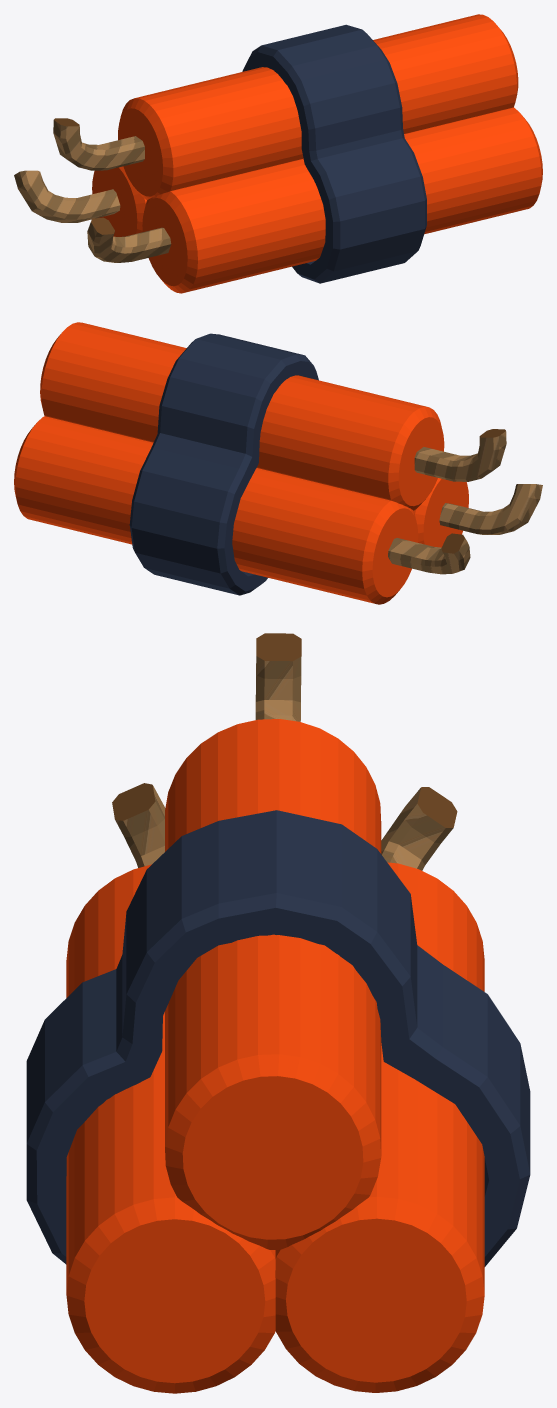
File: Tnt.fbx
3 renders of one model, top to bottom at view 1: azimuth 30°, elevation 25°; view 2: azimuth 150°, elevation 25°; view 3: azimuth 270°, elevation 25°, orthographic. The views are drawn at different scales.
Parts seen in each view (by area): view 1: Tnt; view 2: Tnt; view 3: Tnt.
Boxes of the visible parts, x1,y1,x2,y2 form: Tnt: (14, 14, 542, 293); Tnt: (14, 322, 542, 604); Tnt: (26, 633, 530, 1393).
Size of the model in its own units: 932 by 426 by 465.
4 materials, 1 textured.
